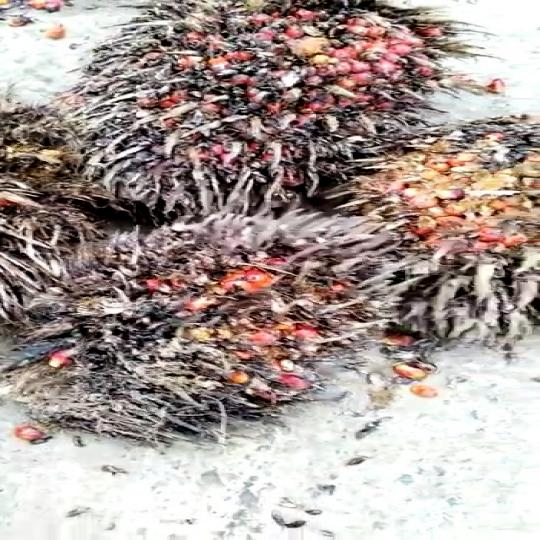terlalu masak: (0, 192, 436, 448), (44, 4, 470, 212)
